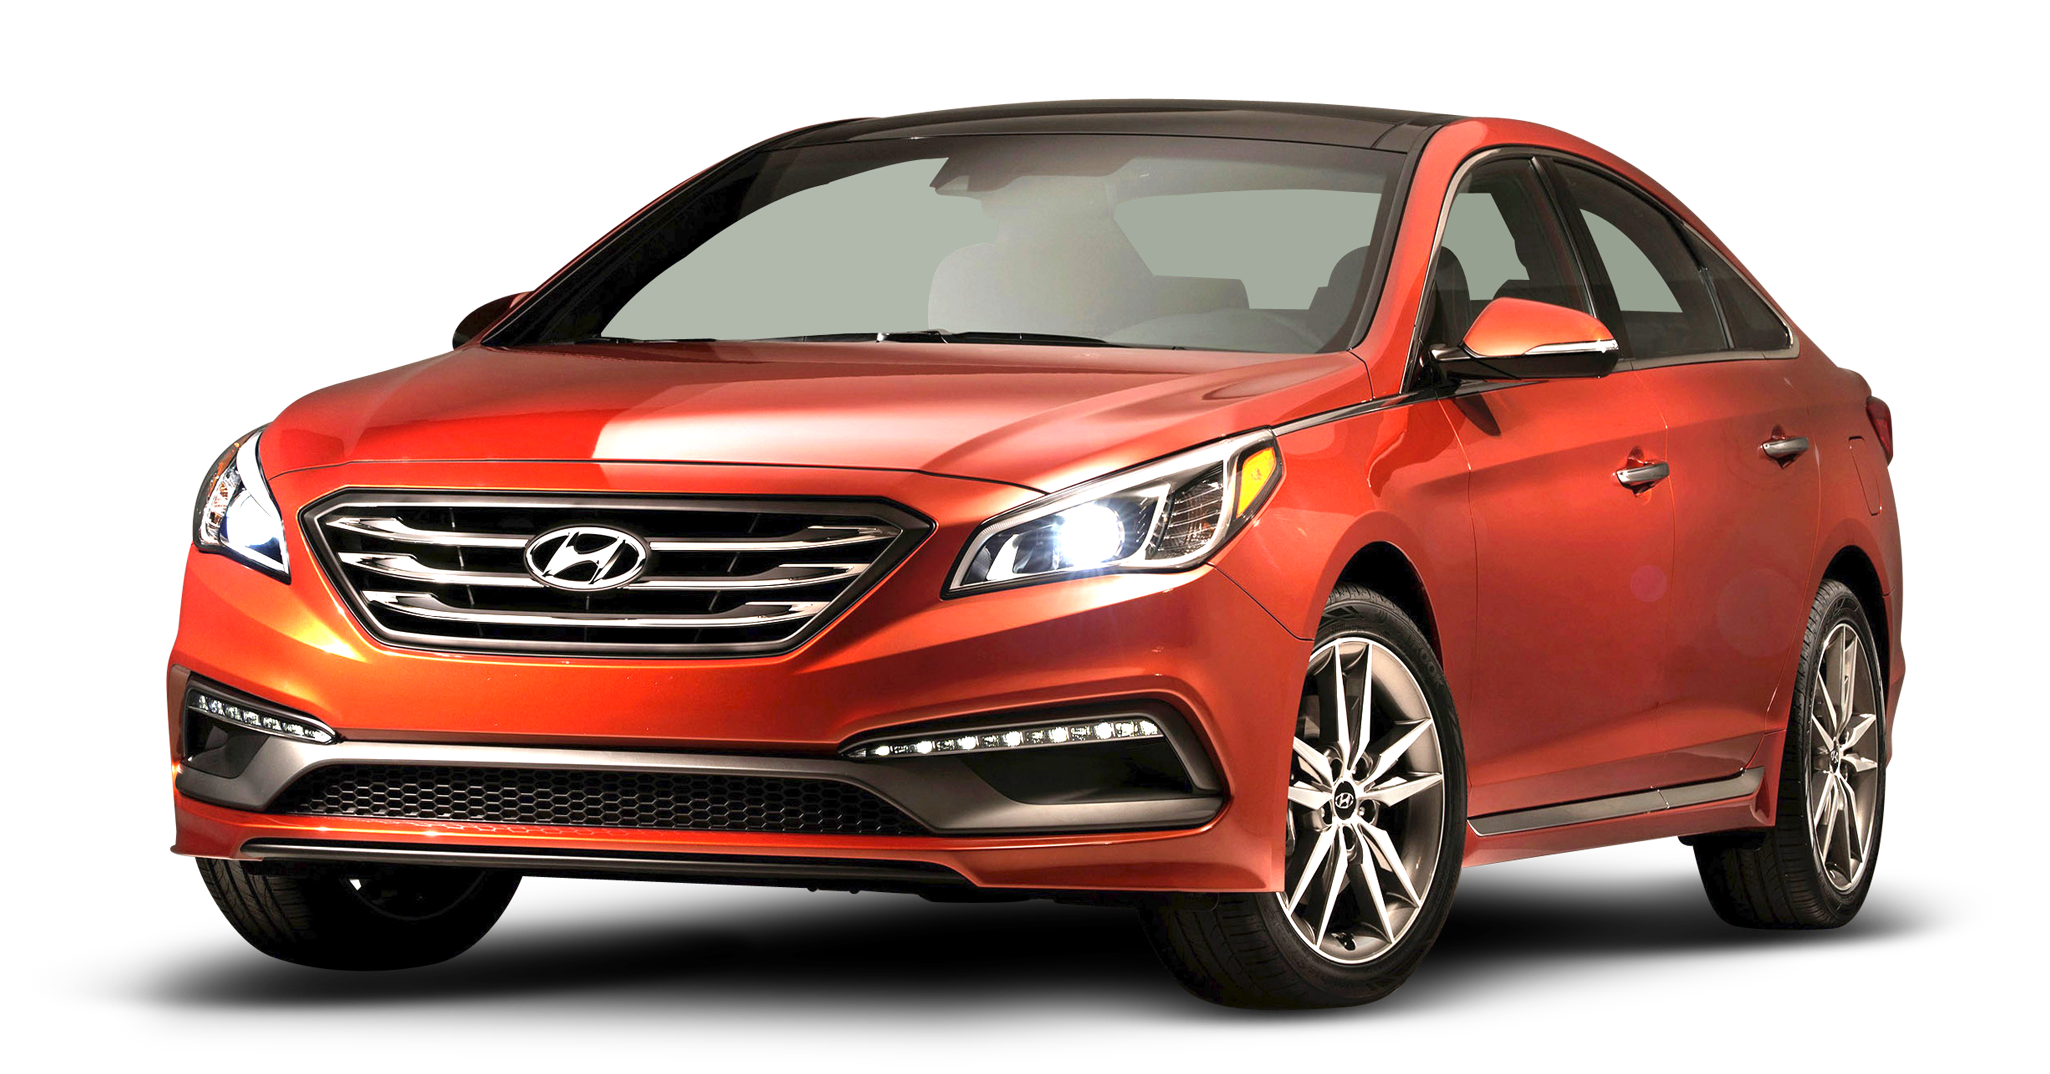P1_: (754, 683, 844, 736)
bbox: (402, 673, 754, 761)
